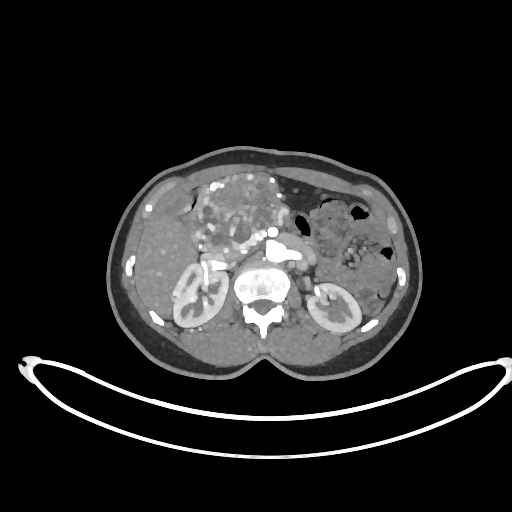Lesion: (169, 292, 179, 303)
